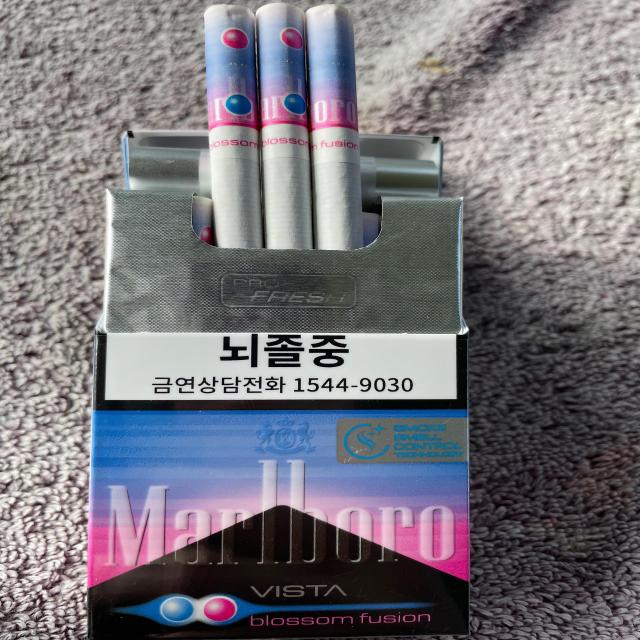cigarette: (255, 2, 318, 251), (203, 3, 262, 248), (305, 4, 363, 252)
